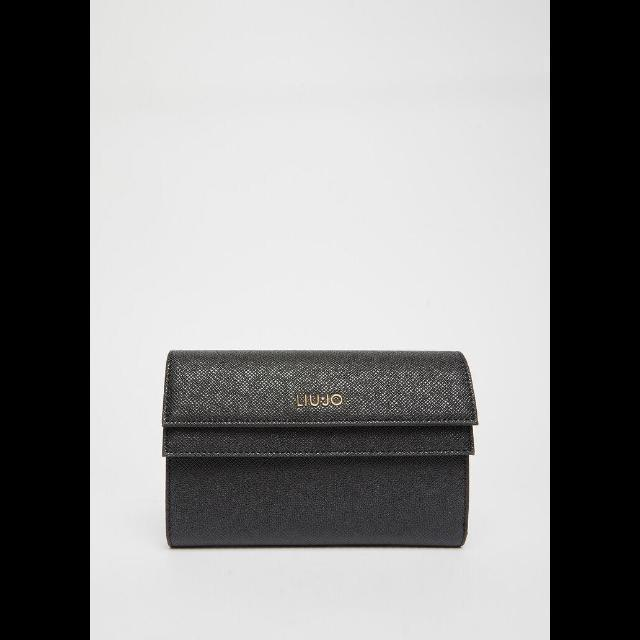wallet: (153, 344, 474, 552)
